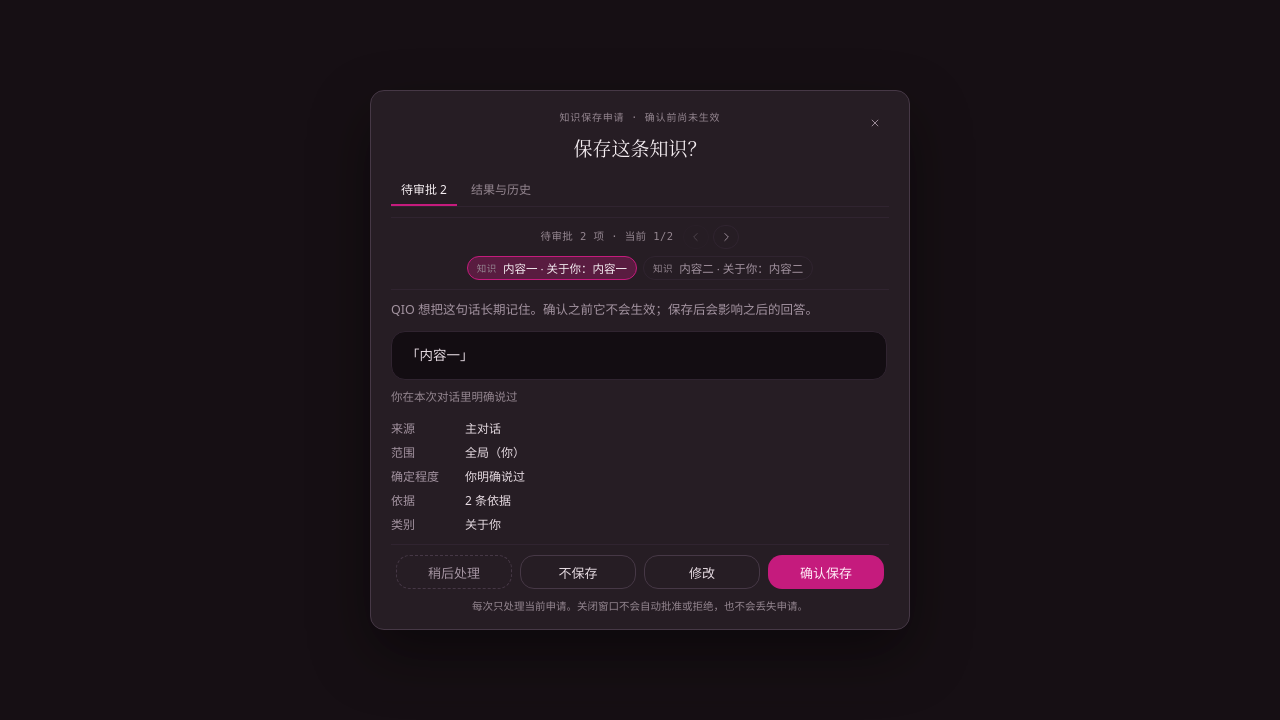
Scenario: 队列与关闭 › 多项时展示切换并保持当前项，切换后显示另一项内容
The image size is (1280, 720).
Expected: the element with test id "unified-approval-switch" is shown, [391,217,889,290]
Click the tab with class "ua-chip" showing "知识 内容二 · 关于你：内容二". click: (728, 268)
box: [643,256,813,280]
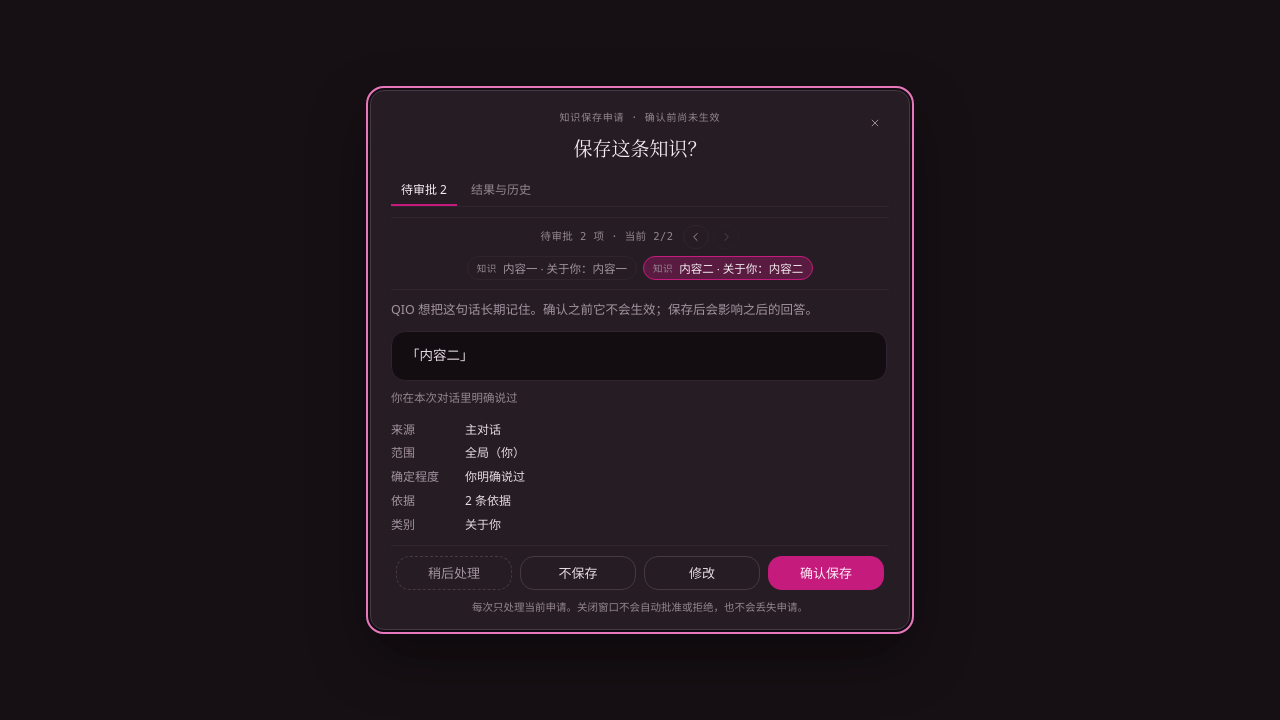
Result: the text with test id "knowledge-approval-content" shows "内容二" at [406,346,474,364]
